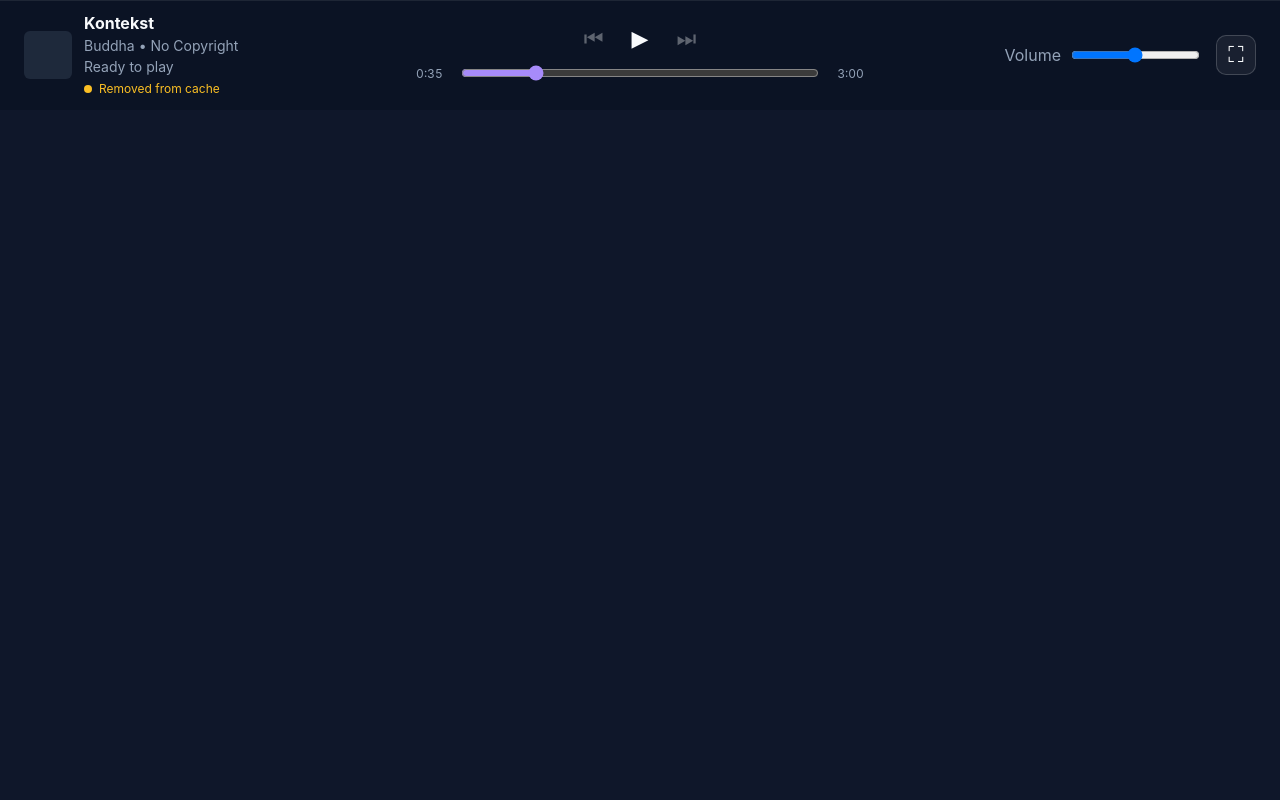
Test: MC-T51: cache-status integration › renders confirmed provider result evicted as Removed from cache
Expected: the text "Kontekst" is shown, [84, 13, 154, 33]
Expected: the text "Removed from cache" is shown, [84, 81, 220, 98]
Step 1. Click the button named "Expand player" → x=1236, y=55, box [1216, 35, 1256, 75]
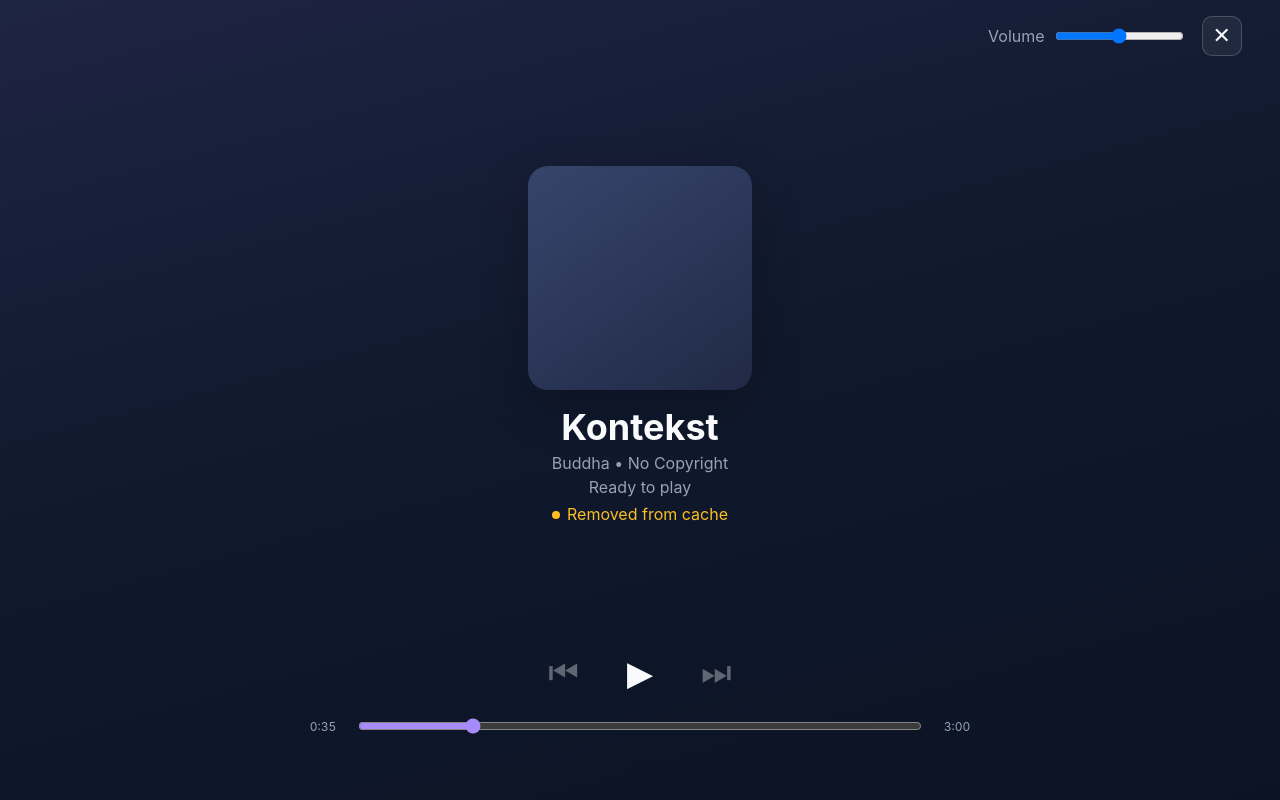
Expected: the text "Removed from cache" is shown, [552, 503, 728, 526]
Expected: the dialog is shown
